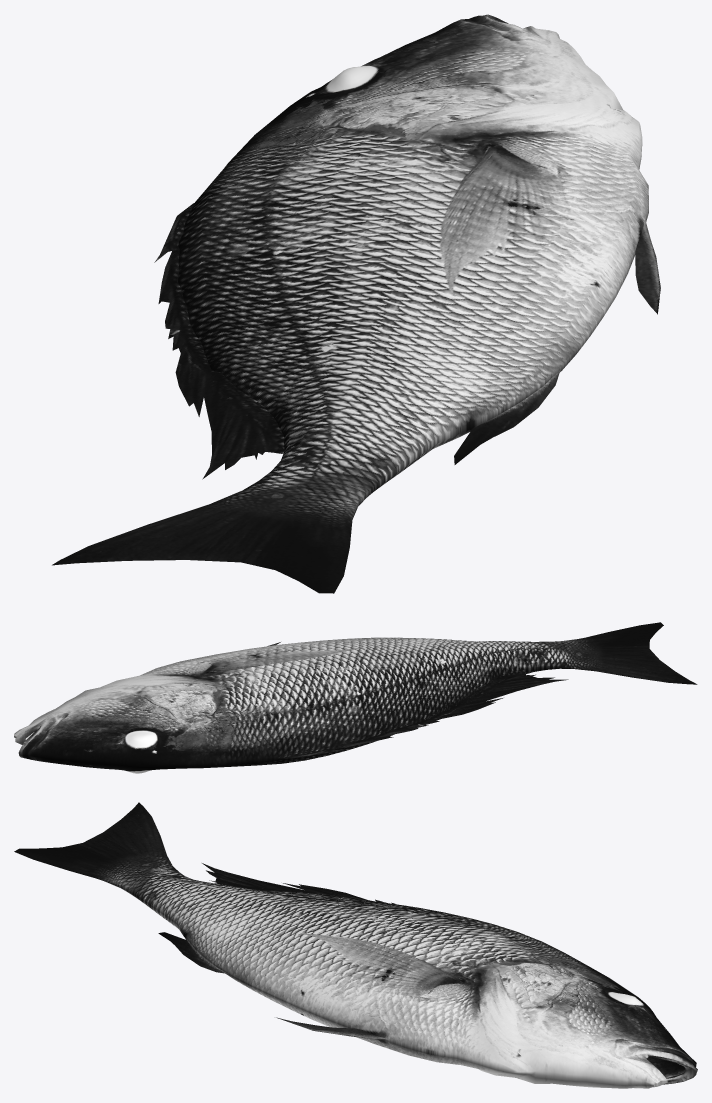
The model's file is PescadoCrudo.fbx.
The picture shows the model from 3 angles, top to bottom: view 1: azimuth 30°, elevation 25°; view 2: azimuth 150°, elevation 25°; view 3: azimuth 270°, elevation 25°; orthographic projection. The views are drawn at different scales.
Visible parts, largest first — view 1: Fish; view 2: Fish; view 3: Fish.
Part boxes in pixels (x1,y1,x2,y2): Fish: (52, 14, 660, 593); Fish: (14, 622, 697, 773); Fish: (14, 802, 697, 1088).
Size of the model in its own units: 32.52 by 4.34 by 34.3.
1 material, 1 textured.
